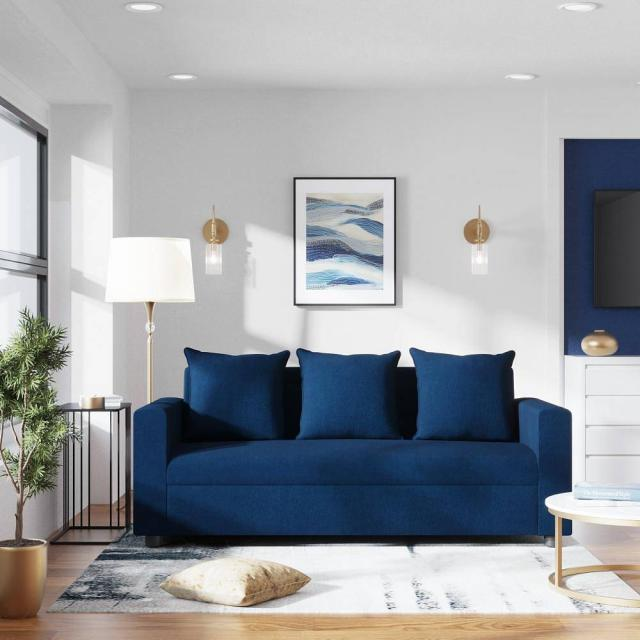sofa: (132, 364, 574, 546)
